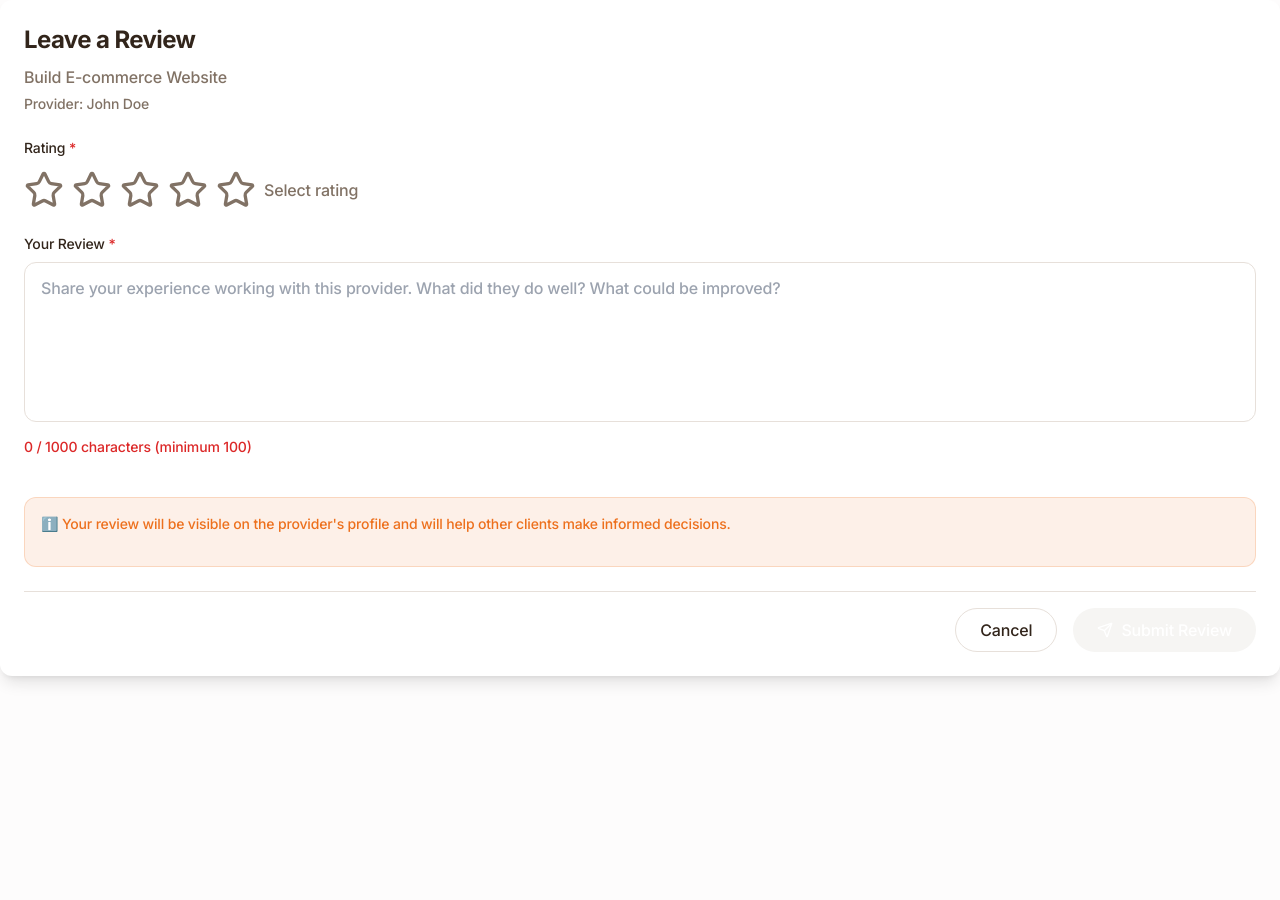
ReviewForm › Review Text Validation › should update character count as user types
In the text box with test id "review-text": point(640, 342) [24,262,1256,422], type "Hello"
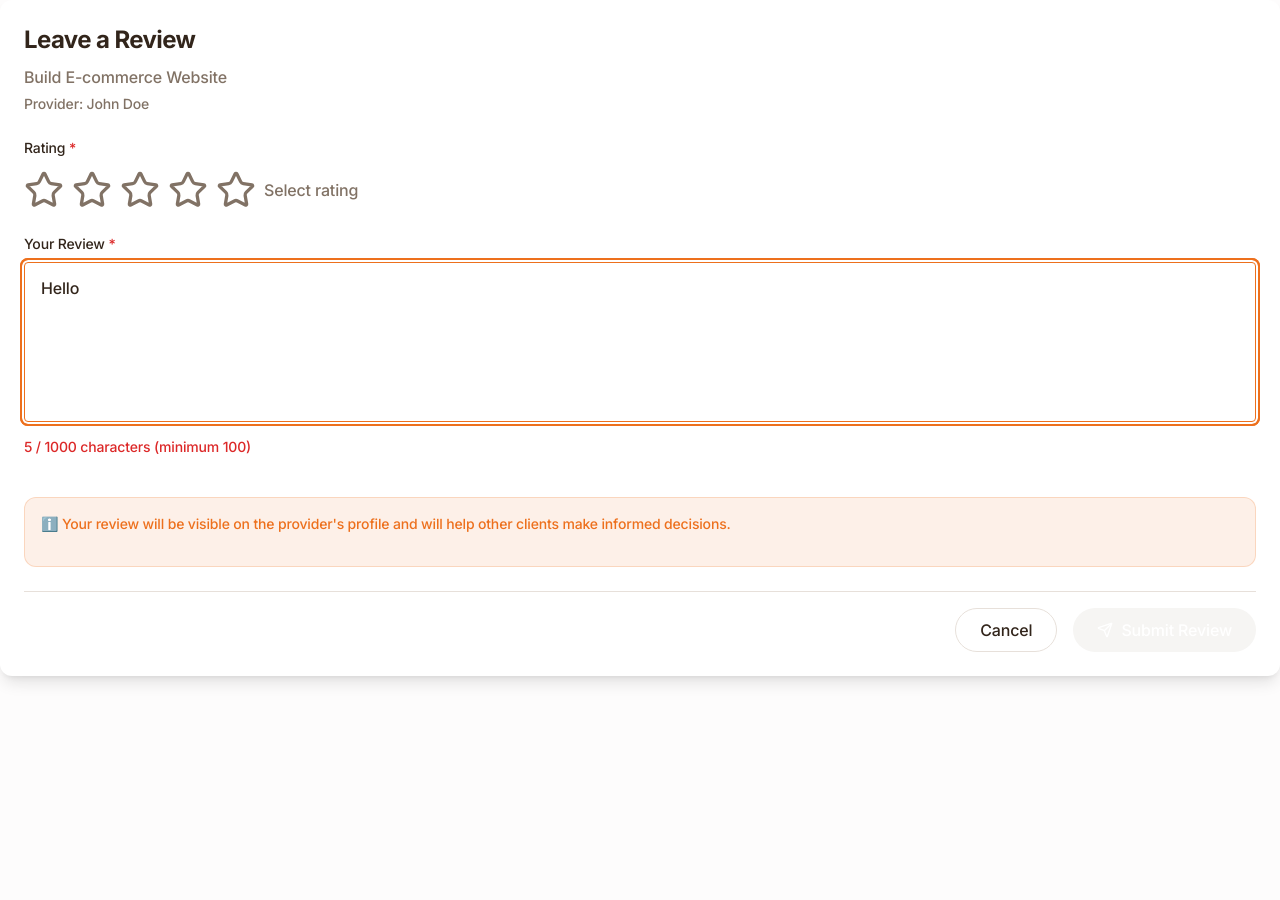
Result: the text "5 / 1000 characters (minimum 100)" is shown at [24,437,251,457]
